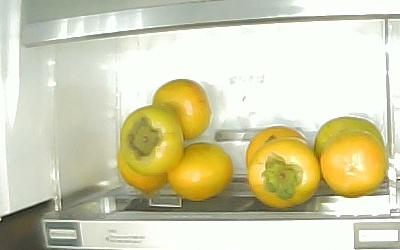persimmon: (247, 138, 319, 208), (319, 130, 385, 197), (120, 105, 183, 175), (166, 142, 232, 201), (151, 78, 210, 139), (314, 117, 385, 154), (244, 126, 305, 166), (117, 151, 168, 197)
